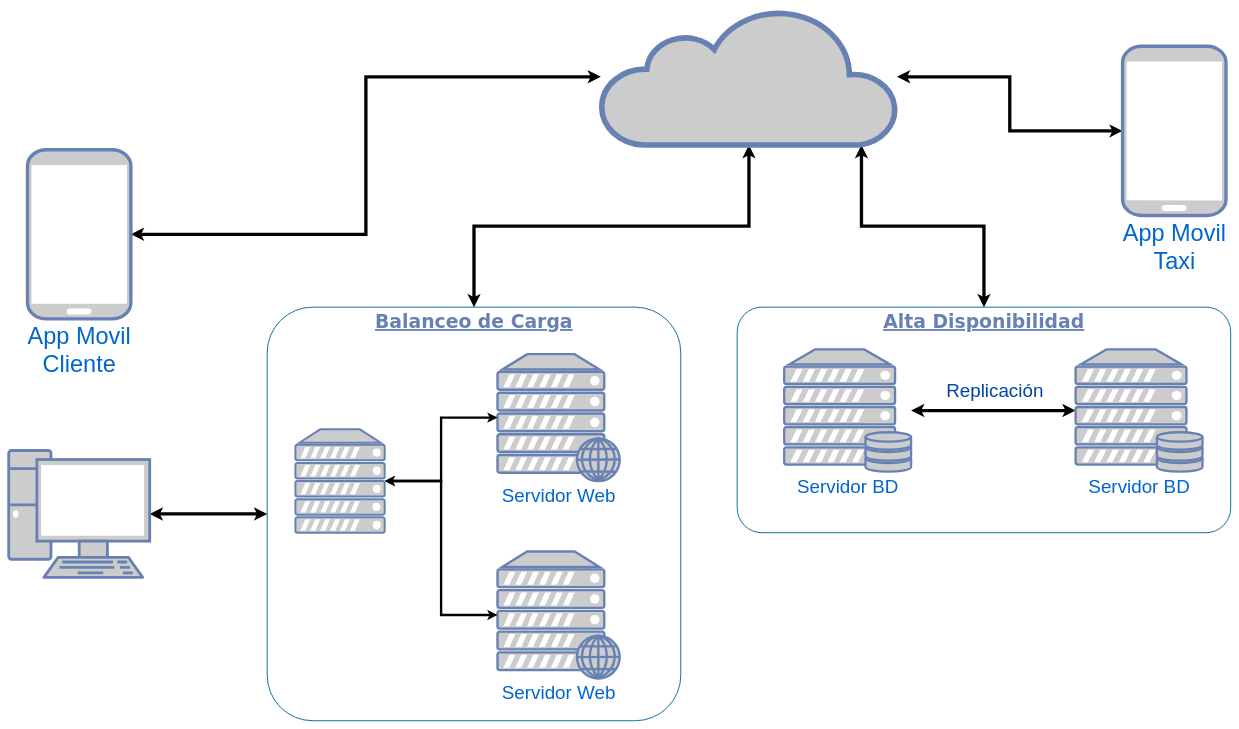
Some shapes in this 1239 by 729 pixel diagram are drawn without their labels. Here are the shapes that lost their labels. From the top down, the centre of each, then its label:
At point 748,76: "SERVICIOS".
At point 340,481: "Balanceador de Carga".
At point 79,514: "Aplicación WEB".
